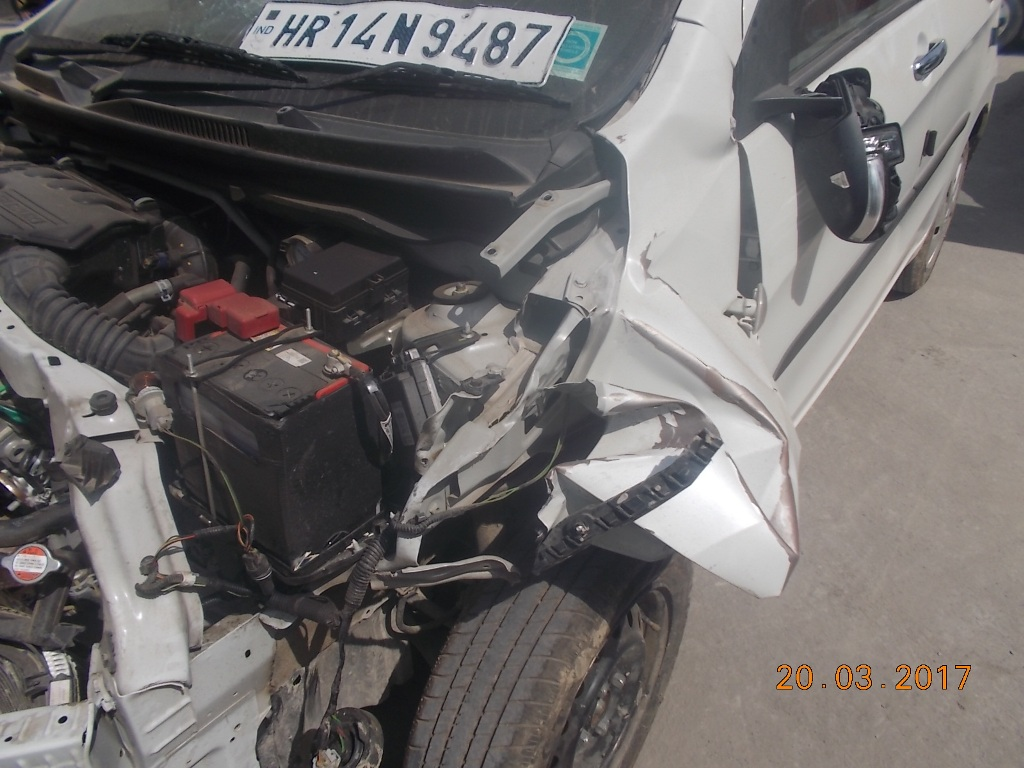Large_tear_or_damage: (3, 82, 752, 726)
